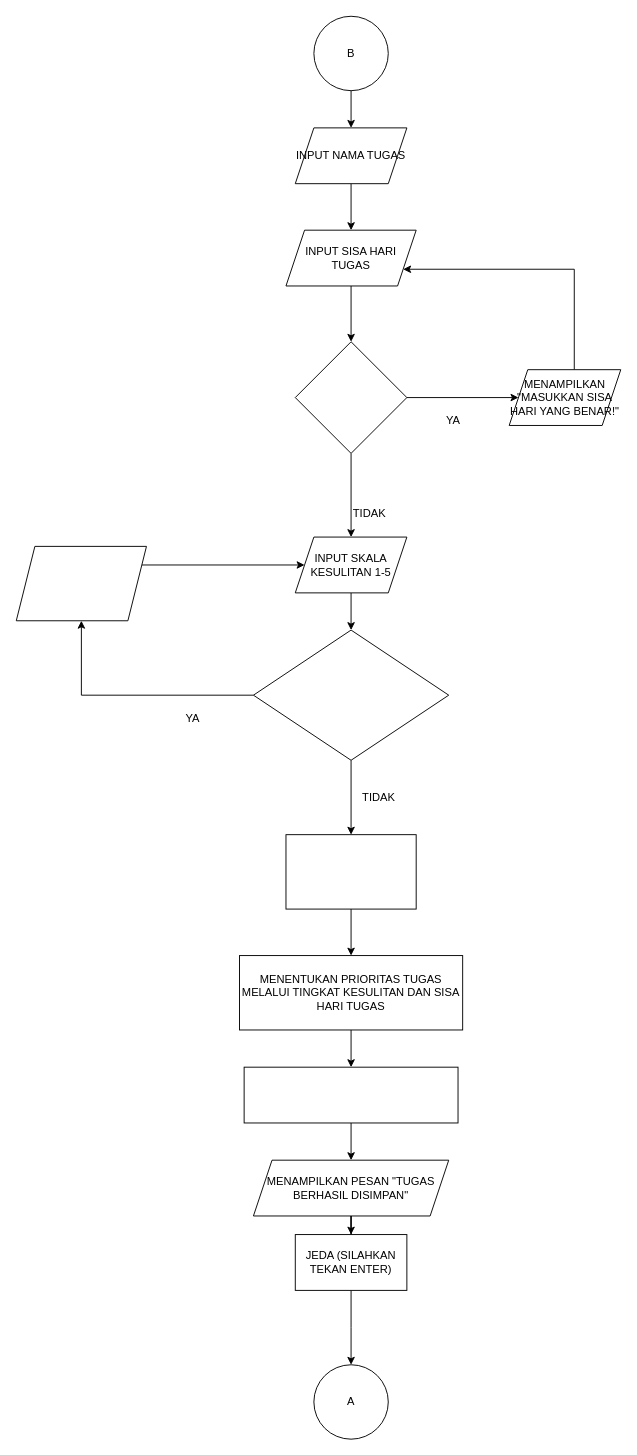
The diagram is 637 pixels wide and 1455 high, and some of its shapes have lost their labels. Here are the shapes that lost their labels. From the top down, the box of each, then its label:
(294, 341, 407, 453): BERUPA ANGKA <0 ATAU HURUF ?
(15, 545, 146, 621): Skala Kesulitan harus berupa angka 1 sampai 5!
(252, 629, 449, 760): APAKAH SKALA KESULITAN BERUPA ANGKA <1 ATAU ANGKA>5 ATAU BERUPA HURUF?
(285, 834, 416, 909): MENENTUKAN TINGKAT KESULITAN (contoh: jika 1 = sangat mudah)
(243, 1066, 458, 1123): MENYIMPAN DATA KE LIST TUGAS Tugas.append(data_tugas)
